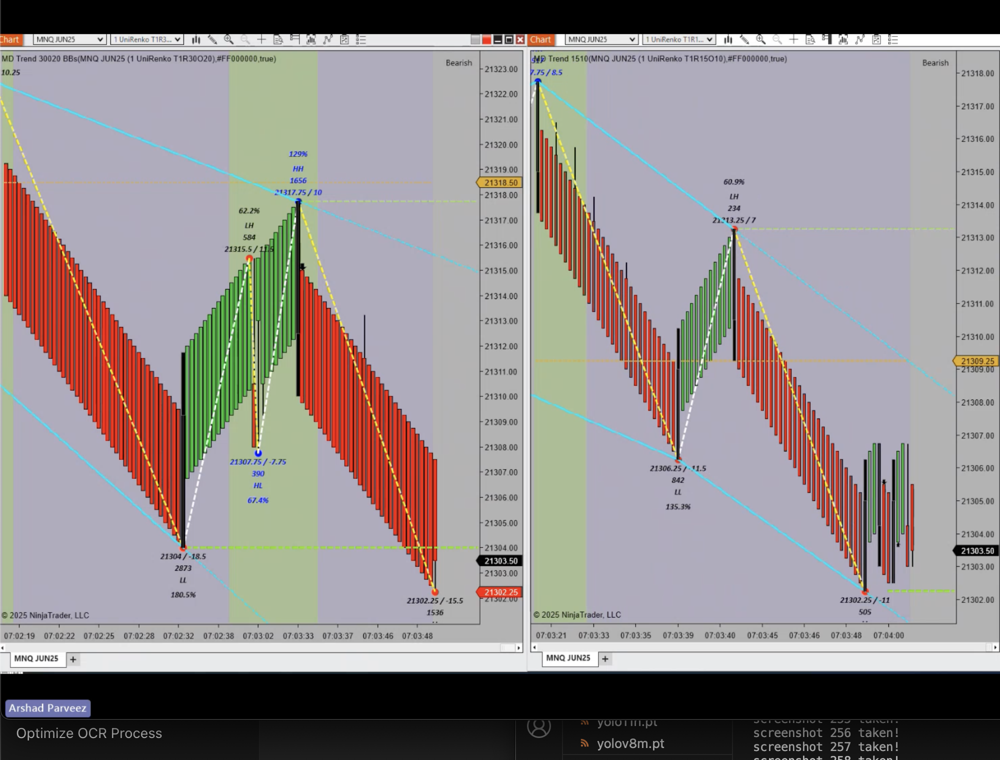HH: (288, 159, 315, 182)
HL: (246, 476, 273, 497)
LH: (240, 218, 267, 235), (726, 186, 747, 203)
LL: (171, 571, 195, 590), (670, 482, 686, 497)
